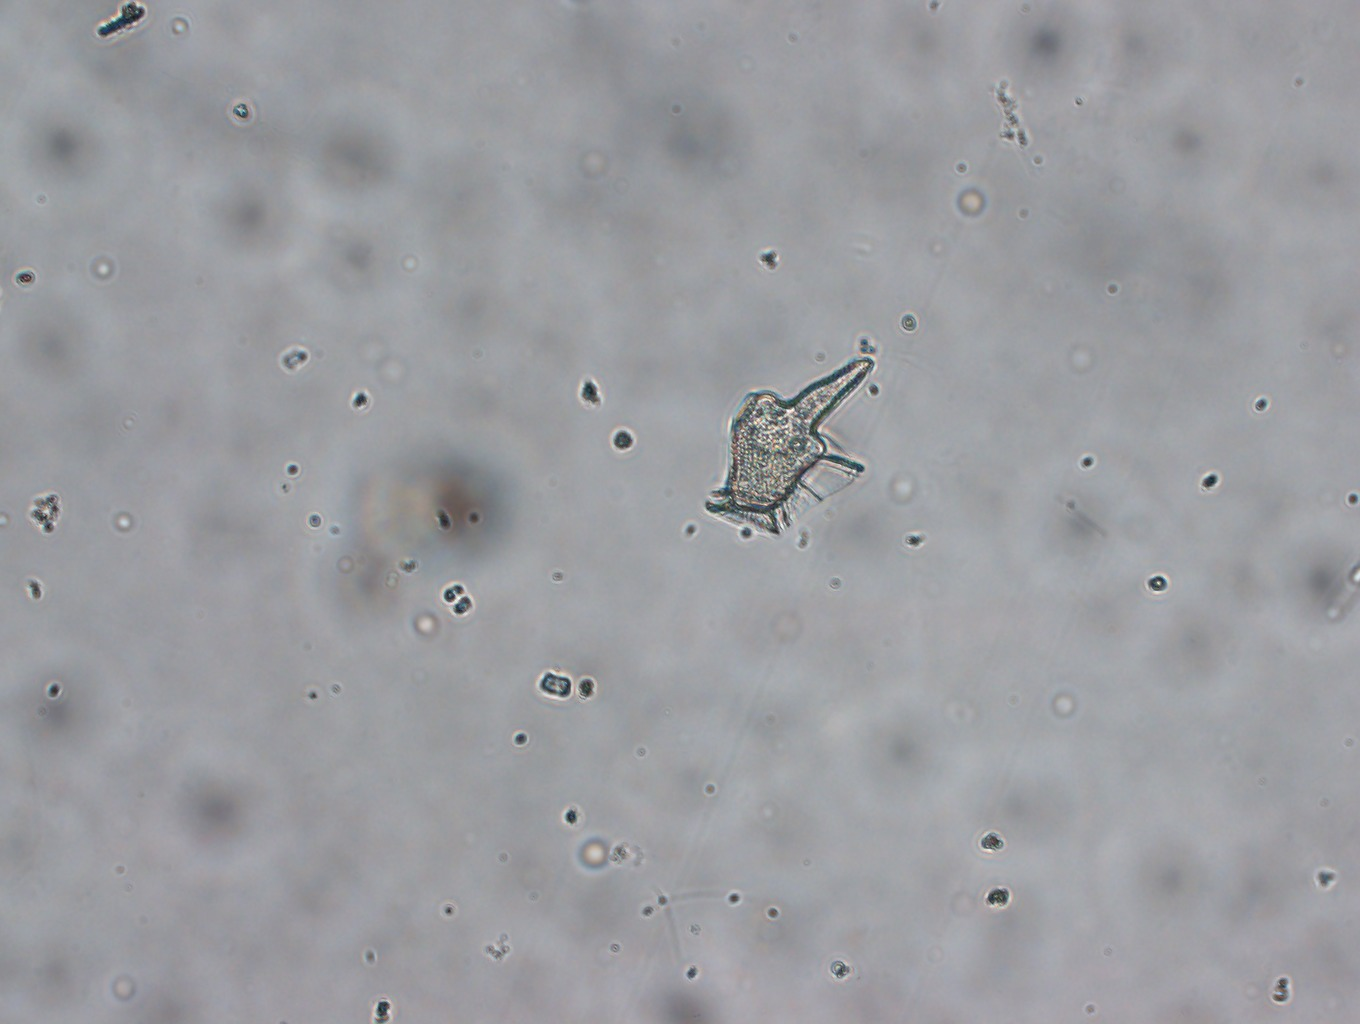dinophysis caudata: (704, 353, 878, 539)
